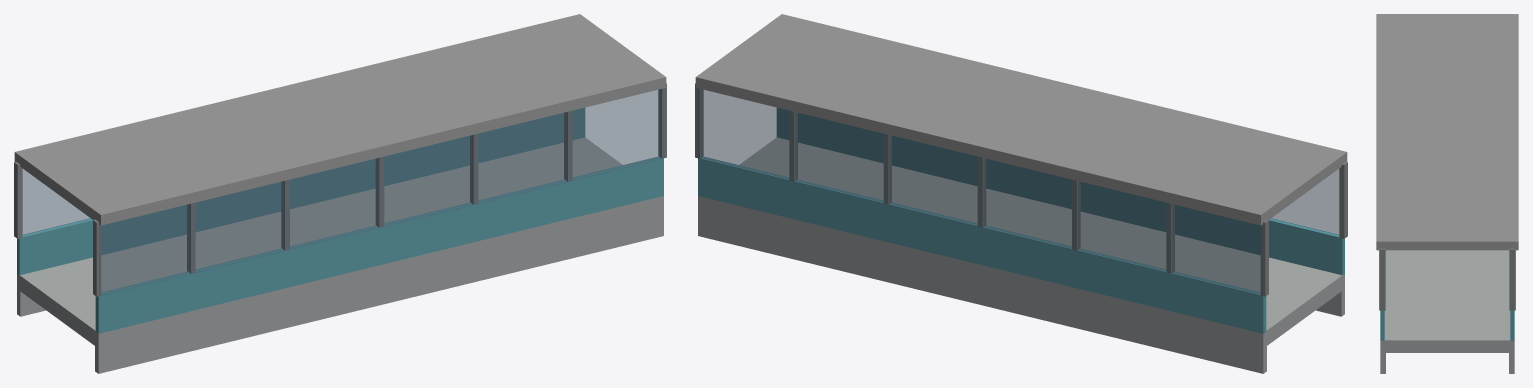
File: hosp-bridge-14.mega-v1.lod0.glb
The picture shows the model from 3 angles, left to right: view 1: azimuth 30°, elevation 25°; view 2: azimuth 150°, elevation 25°; view 3: azimuth 270°, elevation 25°; orthographic projection. The views are drawn at different scales.
Parts seen in each view (by area): view 1: hosp-bridge-14; view 2: hosp-bridge-14; view 3: hosp-bridge-14.
Part boxes in pixels (box(x1,y1,x2,y2)): hosp-bridge-14: box(14, 14, 666, 373); hosp-bridge-14: box(695, 14, 1347, 373); hosp-bridge-14: box(1376, 14, 1518, 373).
Bounding box in the file's own units: 14.12 × 3.8 × 3.7.
